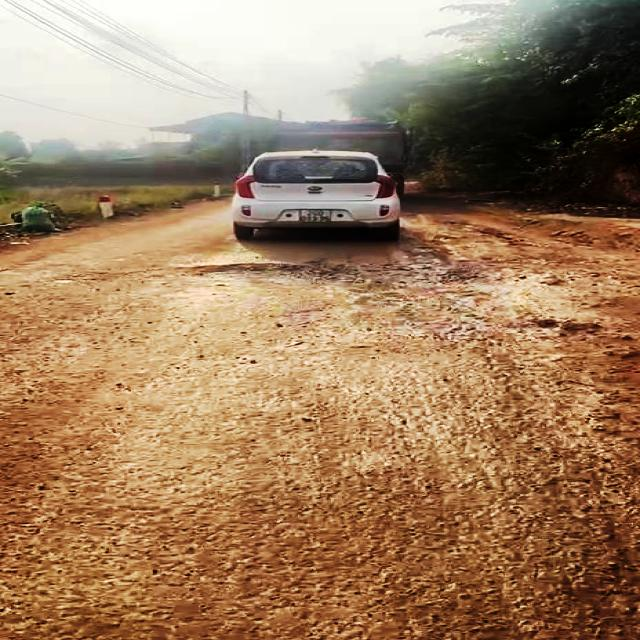pothole: (161, 260, 345, 286)
